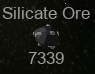Silicate: (2, 7, 90, 65)
